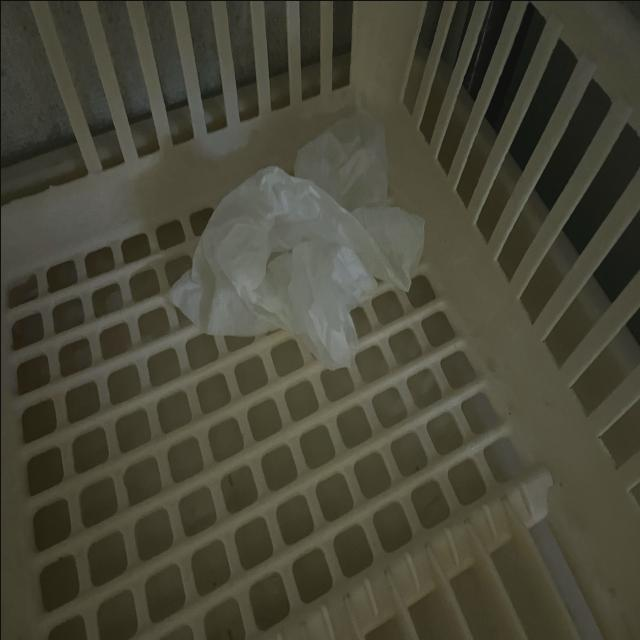Paper: (154, 139, 427, 377)
